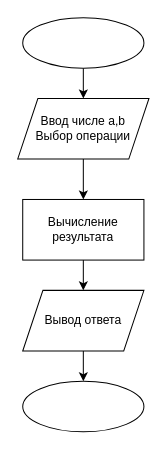
The diagram is 167 pixels wide and 449 high, and some of its shapes have lost their labels. Here are the shapes that lost their labels. From the top down, the centre of each, then its label:
At [83,42]: "Начало".
At [83,406]: "Конец".
